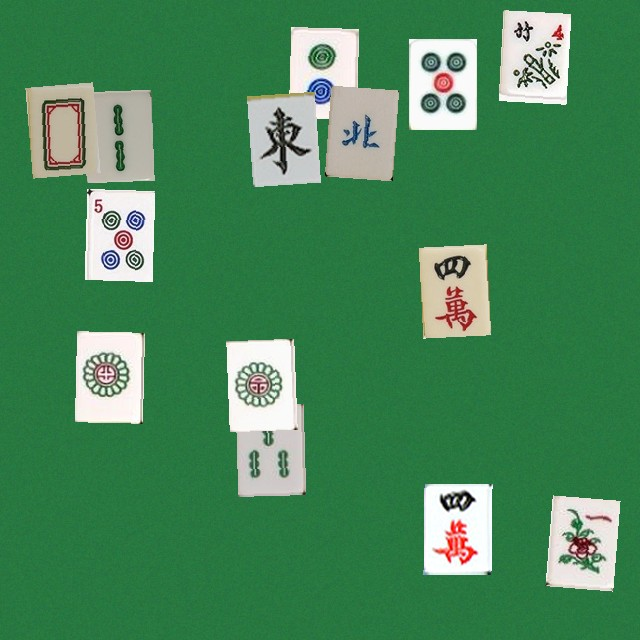tile: (235, 404, 303, 495), (418, 244, 486, 335), (74, 331, 142, 422), (84, 188, 152, 279), (83, 89, 151, 180), (288, 27, 356, 118), (226, 338, 294, 429), (498, 10, 566, 101), (25, 82, 93, 173), (324, 85, 392, 176), (423, 483, 491, 574), (545, 495, 613, 586), (246, 91, 314, 182), (408, 38, 476, 129)
